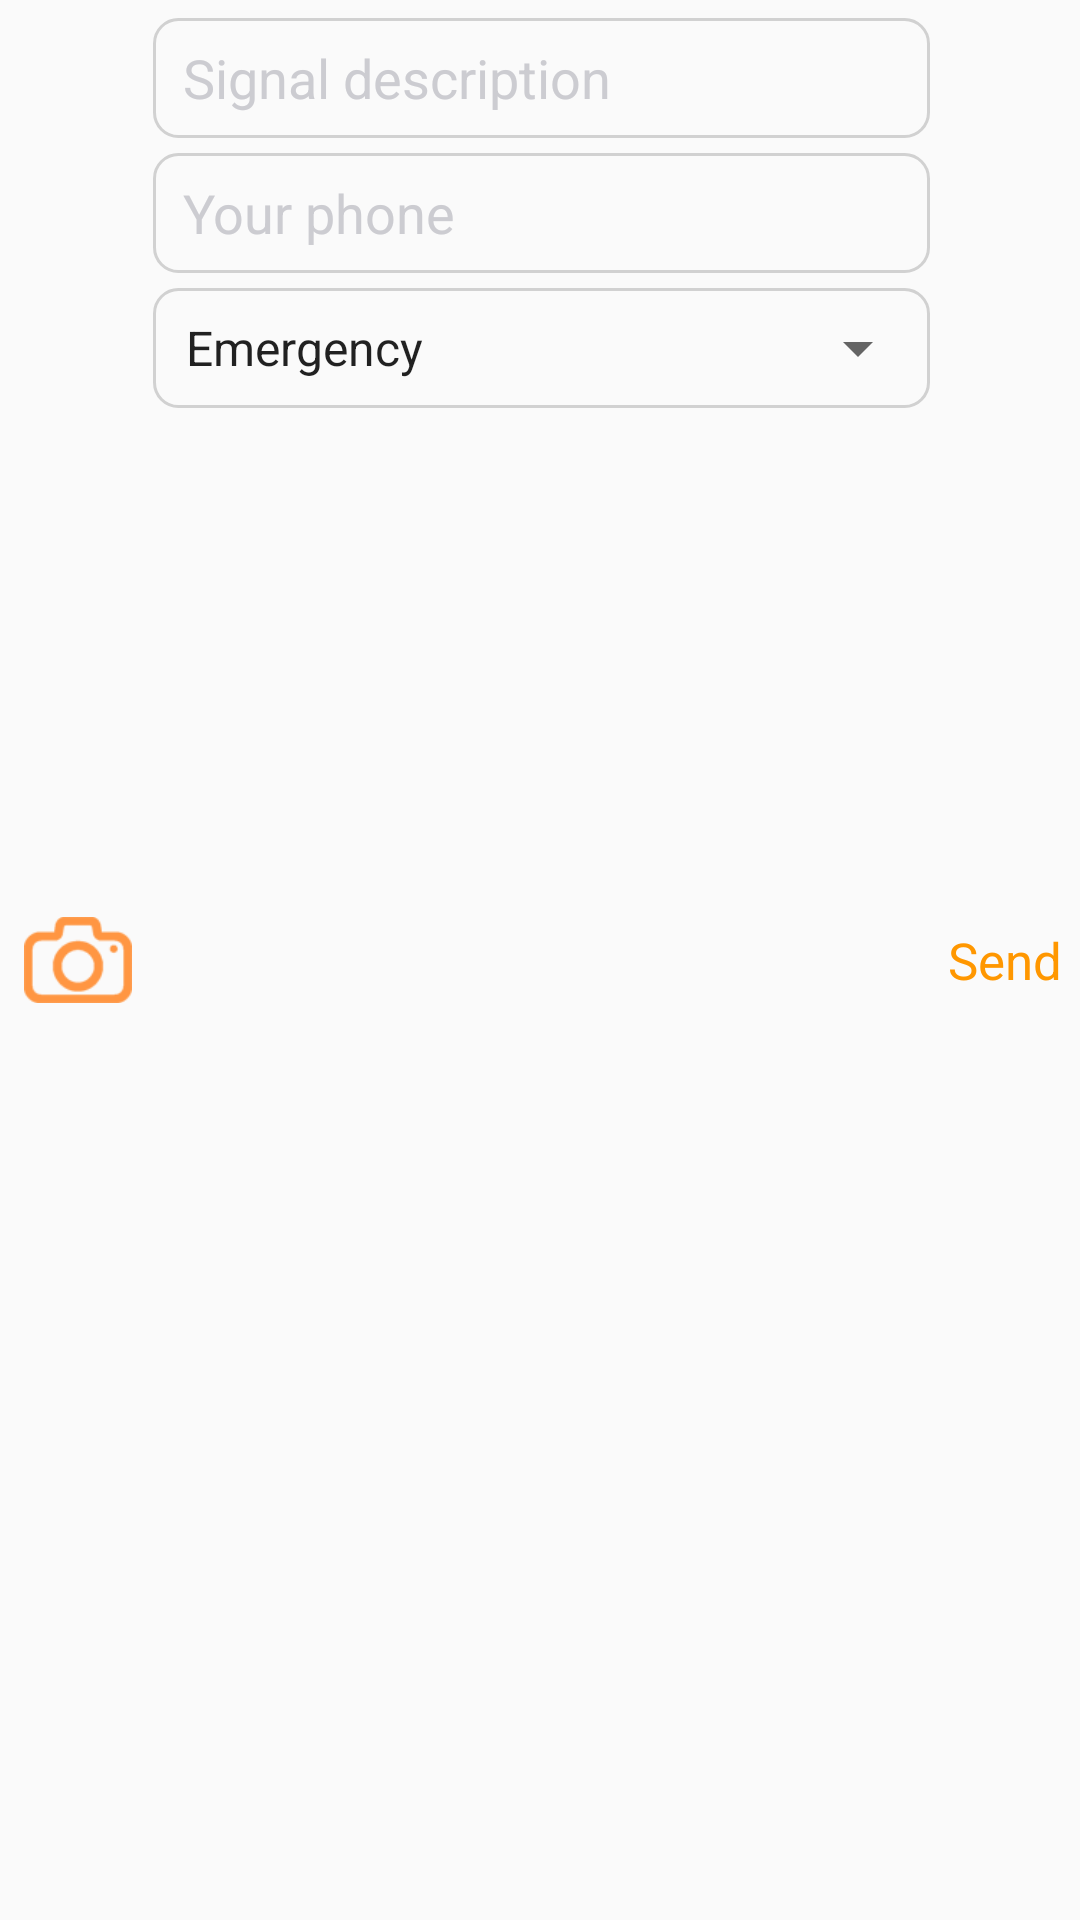

Icon click points for this 1080px×1920px phone screenshot, format point (x, y):
camera: point (78, 960)
